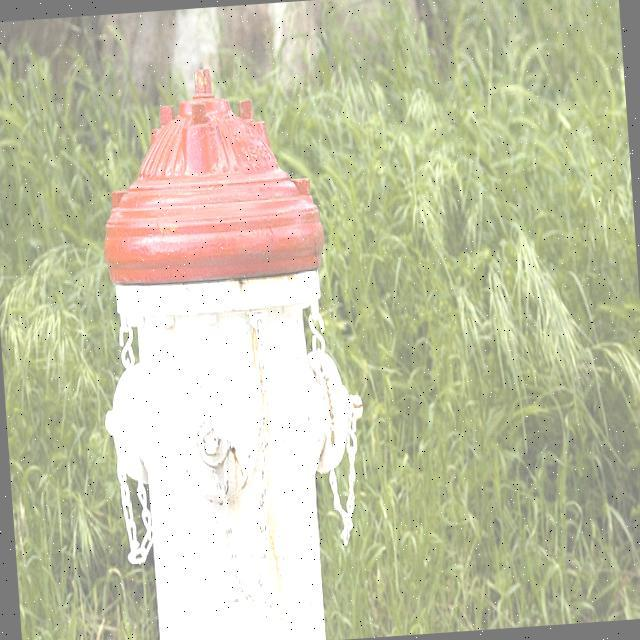fire_hydrant: (79, 52, 378, 640)
